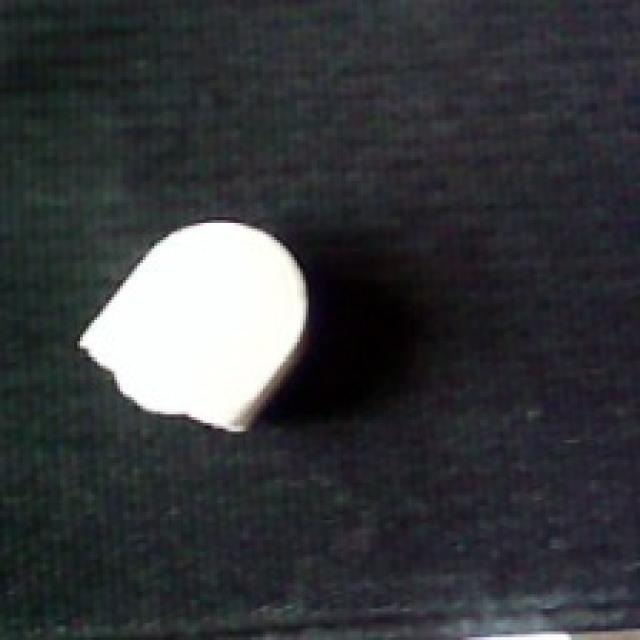defected: (69, 211, 314, 440)
